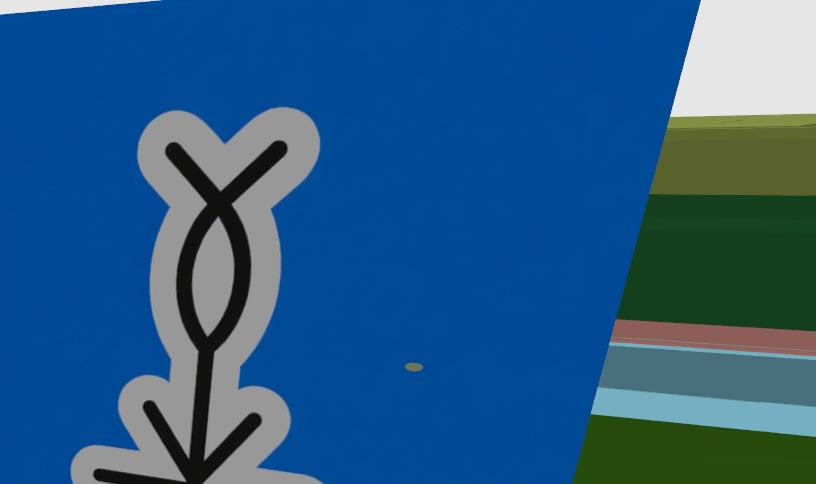KFS_REAL: (0, 0, 698, 484), (71, 108, 322, 484)
